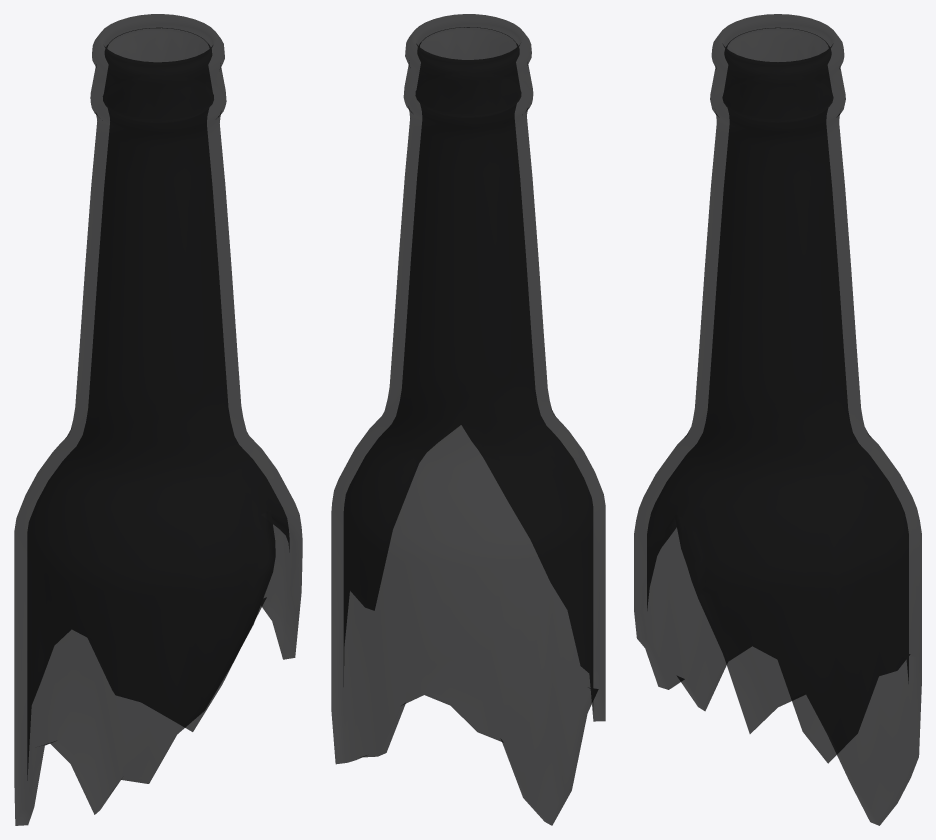
File: broken_glass_bottle_weapon 1.glb
3 views of the same model, side by side, from view 1: azimuth 30°, elevation 25°; view 2: azimuth 150°, elevation 25°; view 3: azimuth 270°, elevation 25° (orthographic). The views are drawn at different scales.
Visible parts, largest first — view 1: BottleOpener_LOW.SOLID; view 2: BottleOpener_LOW.SOLID; view 3: BottleOpener_LOW.SOLID.
Boxes of the visible parts, box(x1,y1,x2,y2) form: BottleOpener_LOW.SOLID: box(14, 14, 302, 825); BottleOpener_LOW.SOLID: box(331, 14, 605, 825); BottleOpener_LOW.SOLID: box(634, 14, 921, 825).
Bounding box in the file's own units: 131 × 389 × 131.
Materials: 1 (1 with a texture image).
